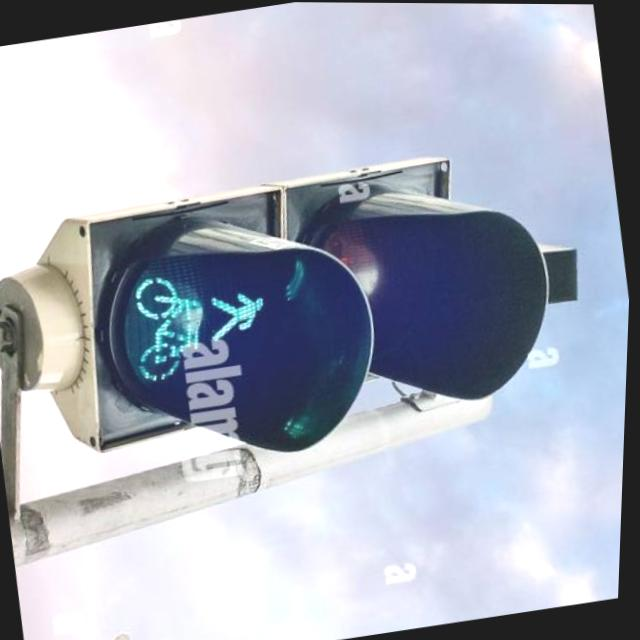green_light: (201, 267, 288, 338)
